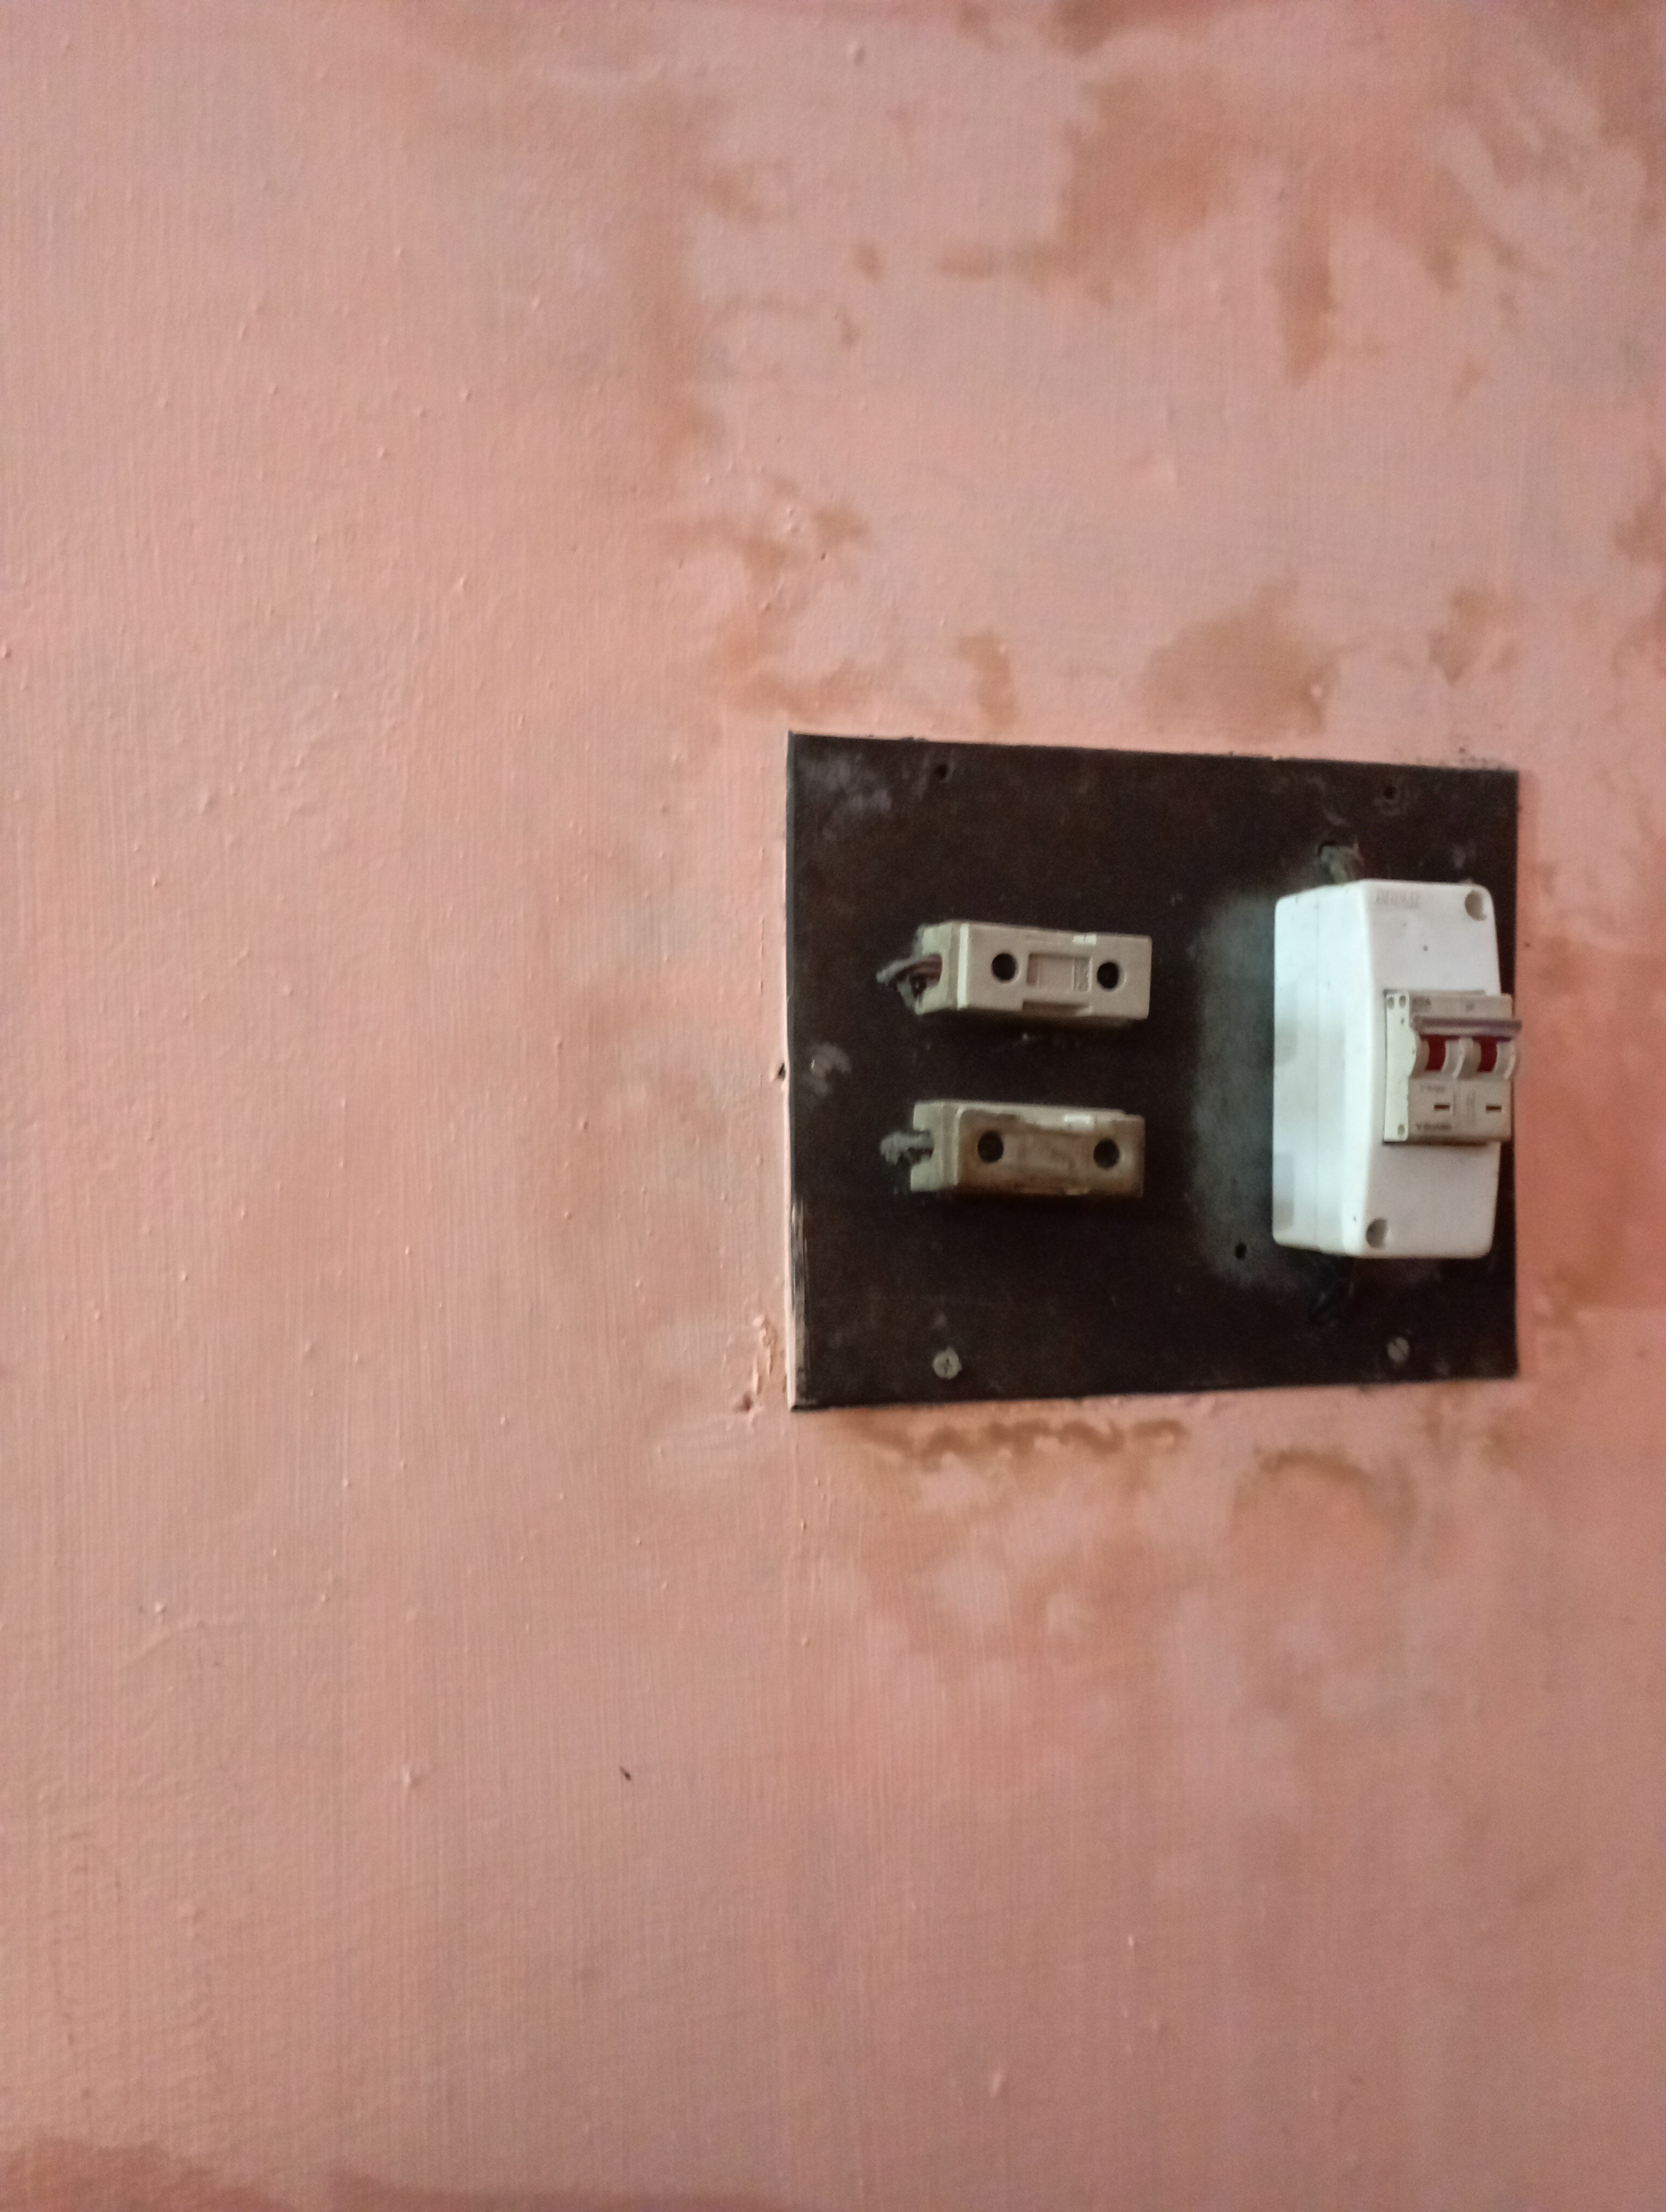ciruit_breaker: (1256, 867, 1521, 1290)
fuse: (851, 908, 1169, 1049), (882, 1098, 1164, 1212)
